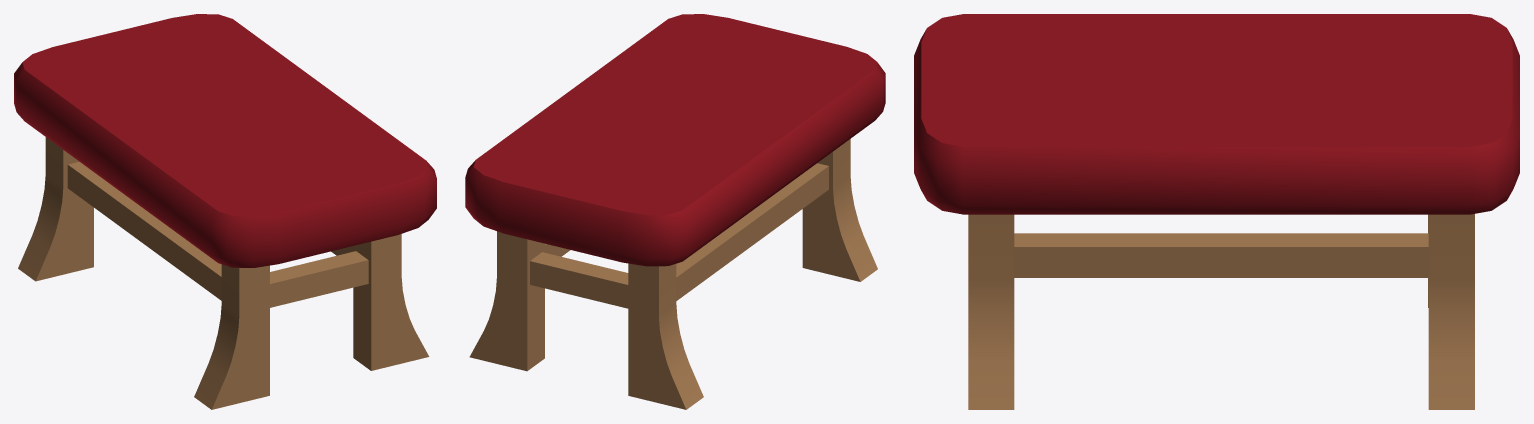
The model's file is bench3.glb.
3 views of the same model, side by side, from view 1: azimuth 30°, elevation 25°; view 2: azimuth 150°, elevation 25°; view 3: azimuth 270°, elevation 25° (orthographic). The views are drawn at different scales.
Visible parts, largest first — view 1: Environment_Bench; view 2: Environment_Bench; view 3: Environment_Bench.
Boxes of the visible parts, box(x1,y1,x2,y2) form: Environment_Bench: box(14, 14, 436, 409); Environment_Bench: box(465, 14, 885, 409); Environment_Bench: box(914, 14, 1519, 409).
Size of the model in its own units: 0.8758 by 0.7441 by 1.57.
Materials: 1 (1 with a texture image).
